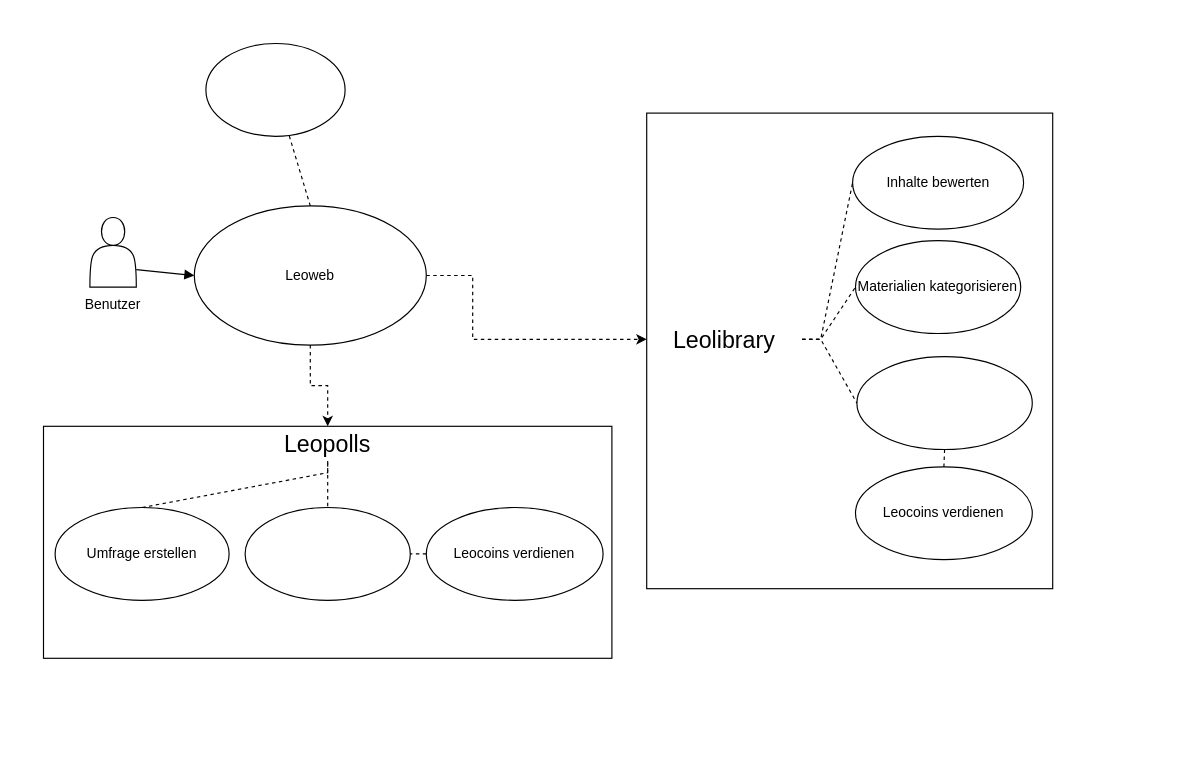
Some shapes in this 1189 by 783 pixel diagram are drawn without their labels. The shapes that lost their labels are listed below. From the top down, each one's box as (x1, y1, x2, y2) in pixels, then its label:
(205, 42, 345, 136): Einloggen mit Keycloak
(856, 356, 1032, 449): Unterlagen hochladen
(244, 506, 410, 600): An Umfragen teilnehmen
